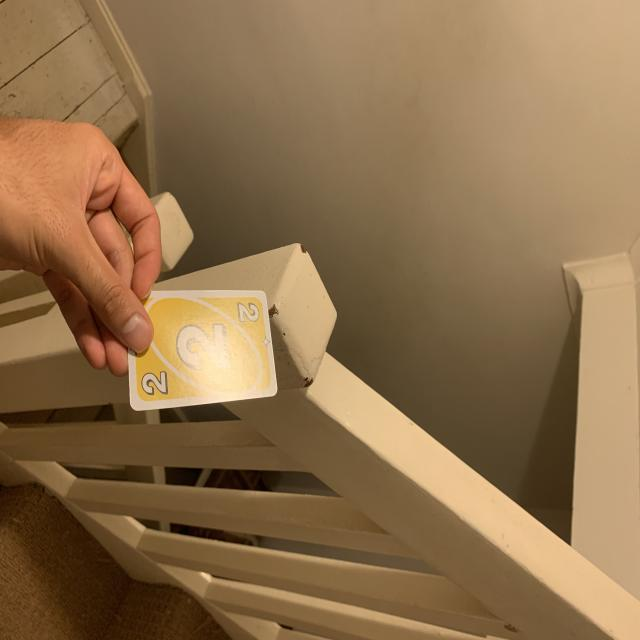lyellow-2: (233, 296, 264, 334)
